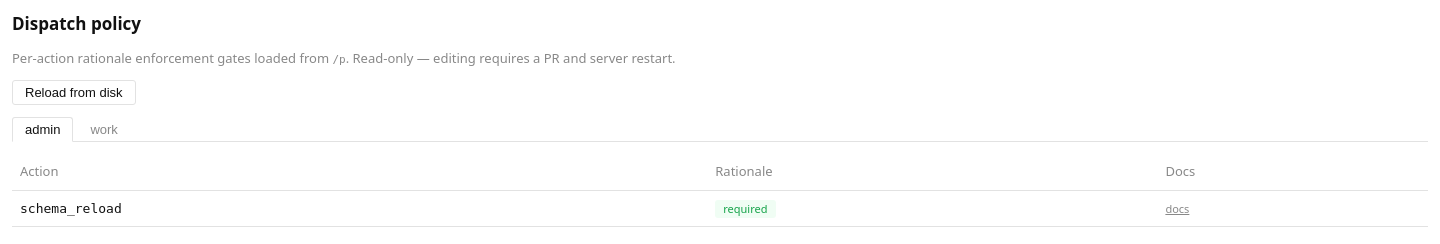
Scenario: AdminDispatchPolicyPage — surface tabs › switches the active surface on tab click
What coordinates should you click on to do the following:
click the tab with test id "admin-dispatch-policy-tab-work"
I would click on:
 (104, 129)
Its box is [77,117,131,141].
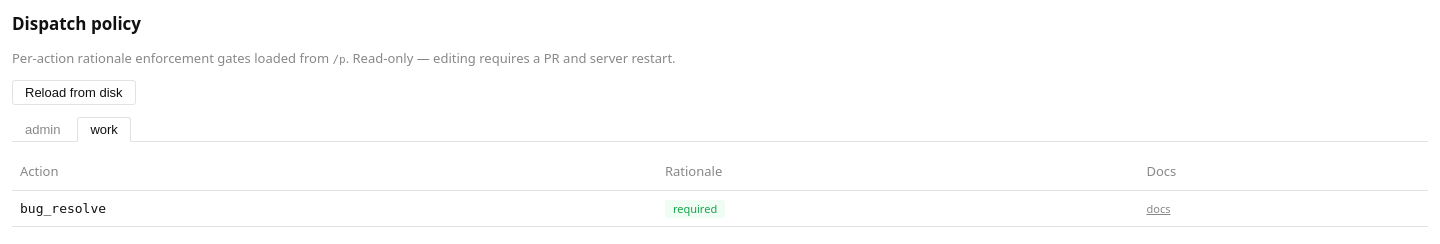
Now the table with test id "admin-dispatch-policy-table-work" is shown, box [12,154,1428,227]
